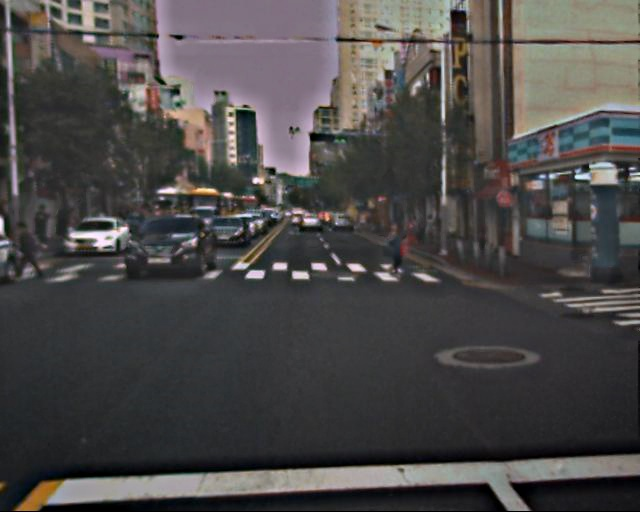person: (9, 218, 45, 284), (380, 223, 413, 285), (416, 218, 439, 245)
